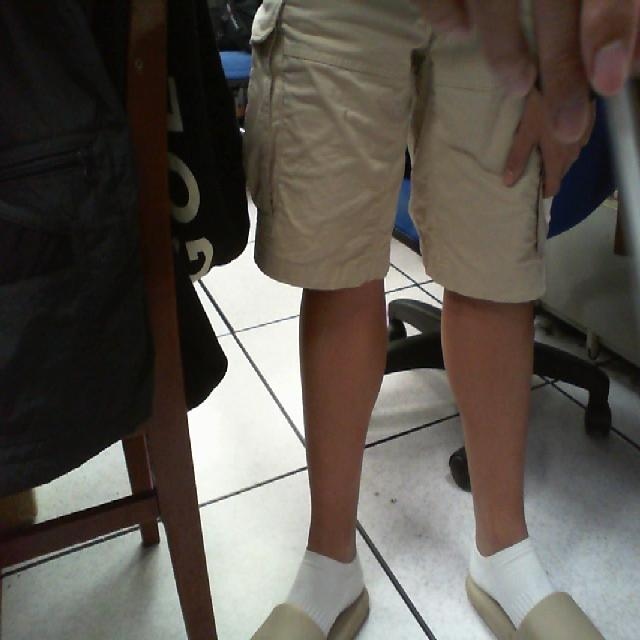Pen: (579, 0, 640, 369)
